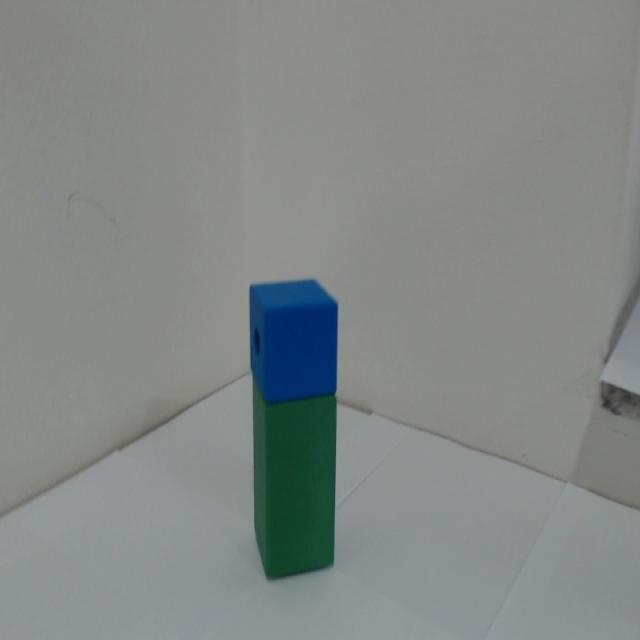cube: (228, 241, 350, 388)
